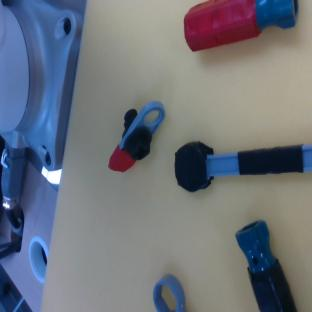part_1_good: (102, 91, 170, 181)
part_2_bad: (232, 218, 297, 312)
part_3_good: (151, 273, 185, 312)
